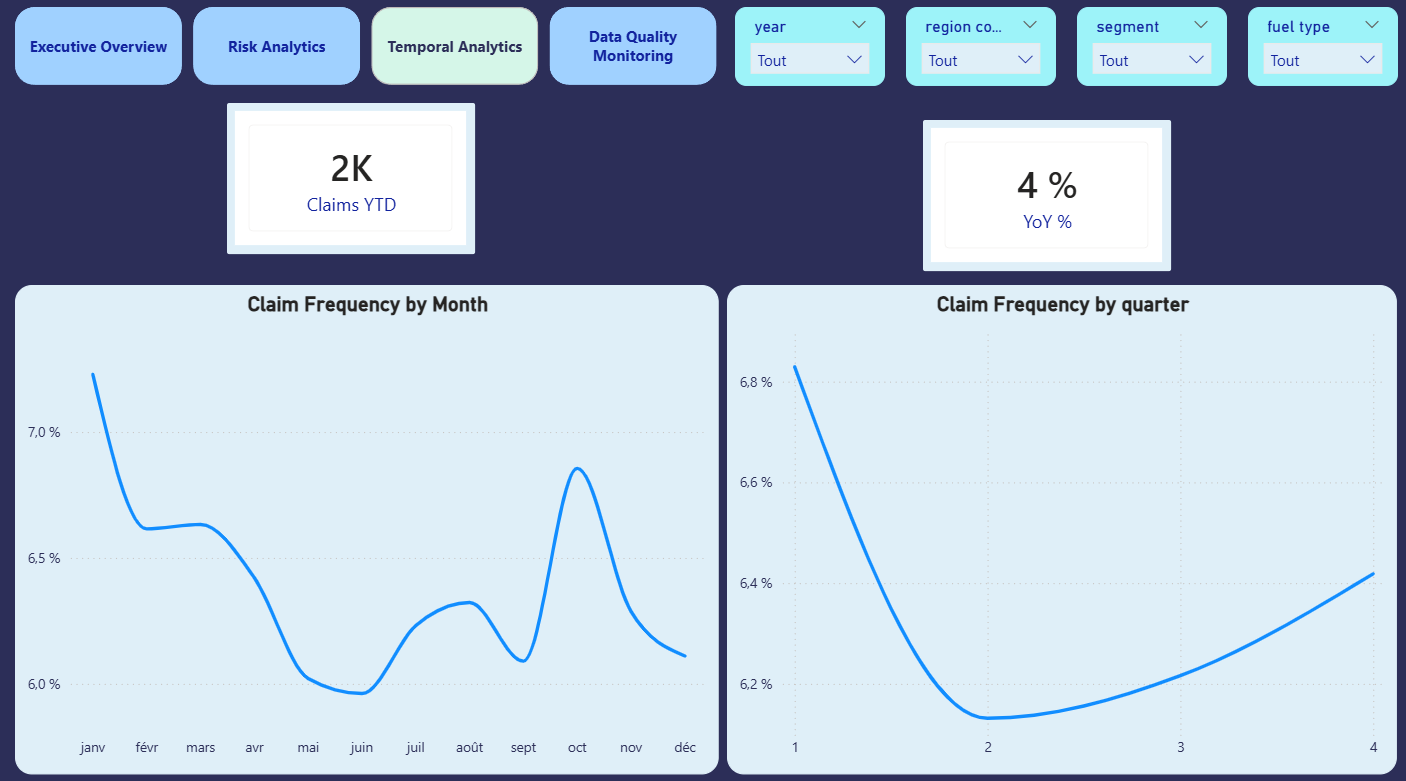

The page's visual inventory and layout, read from the dashboard file:
{"tool":"powerbi","page":{"name":"Temporal Analytics","canvas":[1280,720],"ordinal":2},"visuals":[{"type":"cardVisual","title":"Data Quality Compliance","fields":{"Data":["_Mesures.Claims YTD"]},"box":[219,95.9,220,133.7],"z":0},{"type":"lineChart","title":"Claim Frequency by Month","fields":{"Y":["_Mesures.Claim Frequency"],"Category":["wh_dim_date.Month Name"]},"box":[31,256.8,624,434.1],"z":1000},{"type":"slicer","fields":{"Values":["wh_dim_date.year"]},"box":[669.6,10.7,132.7,69.8],"z":2000},{"type":"slicer","fields":{"Values":["wh_dim_region.region_code"]},"box":[821,10.7,132.7,69.8],"z":3000},{"type":"slicer","fields":{"Values":["wh_dim_segment.segment"]},"box":[972.5,10.7,132.7,69.8],"z":4000},{"type":"slicer","fields":{"Values":["wh_dim_fuel.fuel_type"]},"box":[1124,10.7,132.7,69.8],"z":5000},{"type":"cardVisual","title":"Data Quality Compliance","fields":{"Data":["_Mesures.YoY %"]},"box":[836.2,110.5,220,133.7],"z":6000},{"type":"lineChart","title":"Claim Frequency by quarter","fields":{"Y":["_Mesures.Claim Frequency"],"Category":["wh_dim_date.quarter"]},"box":[662.8,256.8,594,434.1],"z":7000},{"type":"pageNavigator","box":[31,10.7,624,69.8],"z":8000}]}

Visuals, with their boxes in screenshot pixels (x1, y1, x2, y2), scaled from the page's 1280x720 canvas onto the 1406x781 screenshot:
"Data Quality Compliance" cardVisual: l=241, t=104, r=482, b=249
"Claim Frequency by Month" lineChart: l=34, t=279, r=719, b=749
slicer - wh_dim_date.year: l=736, t=12, r=881, b=87
slicer - wh_dim_region.region_code: l=902, t=12, r=1048, b=87
slicer - wh_dim_segment.segment: l=1068, t=12, r=1214, b=87
slicer - wh_dim_fuel.fuel_type: l=1235, t=12, r=1380, b=87
"Data Quality Compliance" cardVisual: l=919, t=120, r=1160, b=265
"Claim Frequency by quarter" lineChart: l=728, t=279, r=1381, b=749
pageNavigator: l=34, t=12, r=719, b=87
